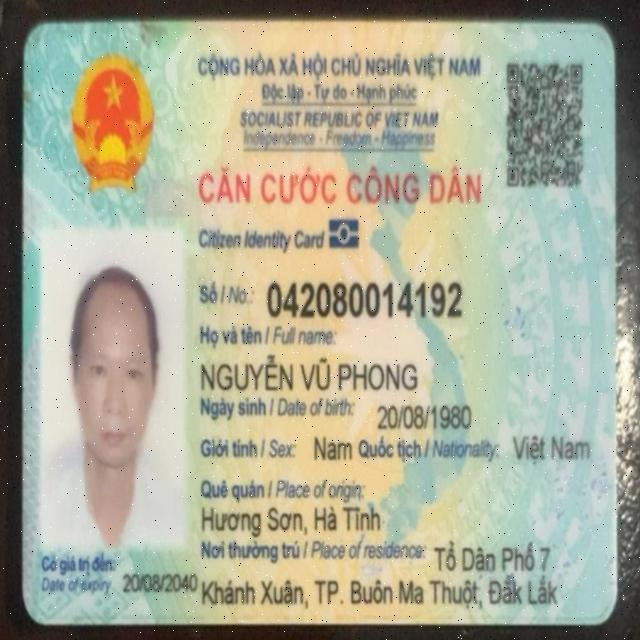current_place: (201, 569, 562, 614), (432, 534, 553, 577)
dob: (376, 401, 473, 434)
expire_date: (118, 568, 199, 596)
gender: (312, 433, 353, 462)
id: (265, 280, 465, 320)
name: (197, 351, 423, 394)
nationality: (511, 429, 590, 470)
origin_place: (200, 502, 388, 537)
qr: (504, 54, 588, 192)
